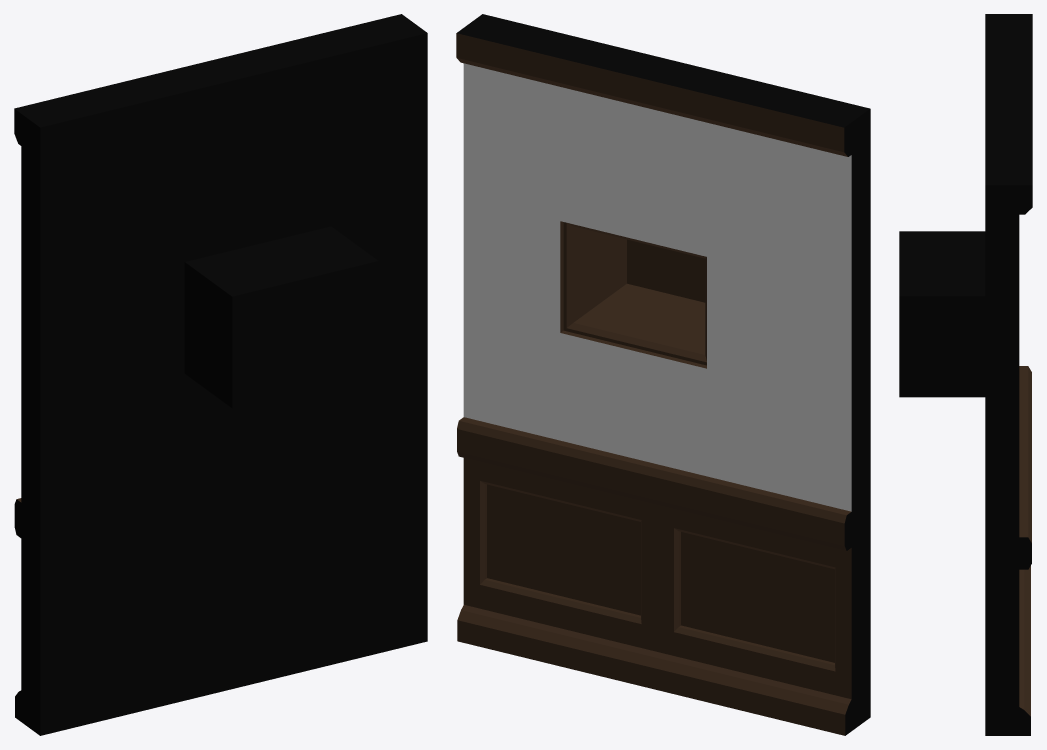
File: Wall_Save_1.fbx
3 views of the same model, side by side, from view 1: azimuth 30°, elevation 25°; view 2: azimuth 150°, elevation 25°; view 3: azimuth 270°, elevation 25° (orthographic). The views are drawn at different scales.
Visible parts, largest first — view 1: Cube.174; view 2: Cube.174; view 3: Cube.174.
Part boxes in pixels (x1,y1,x2,y2): Cube.174: (14, 14, 427, 735); Cube.174: (456, 14, 870, 735); Cube.174: (899, 14, 1032, 735).
Bounding box in the file's own units: 0.6573 × 2 × 3.
